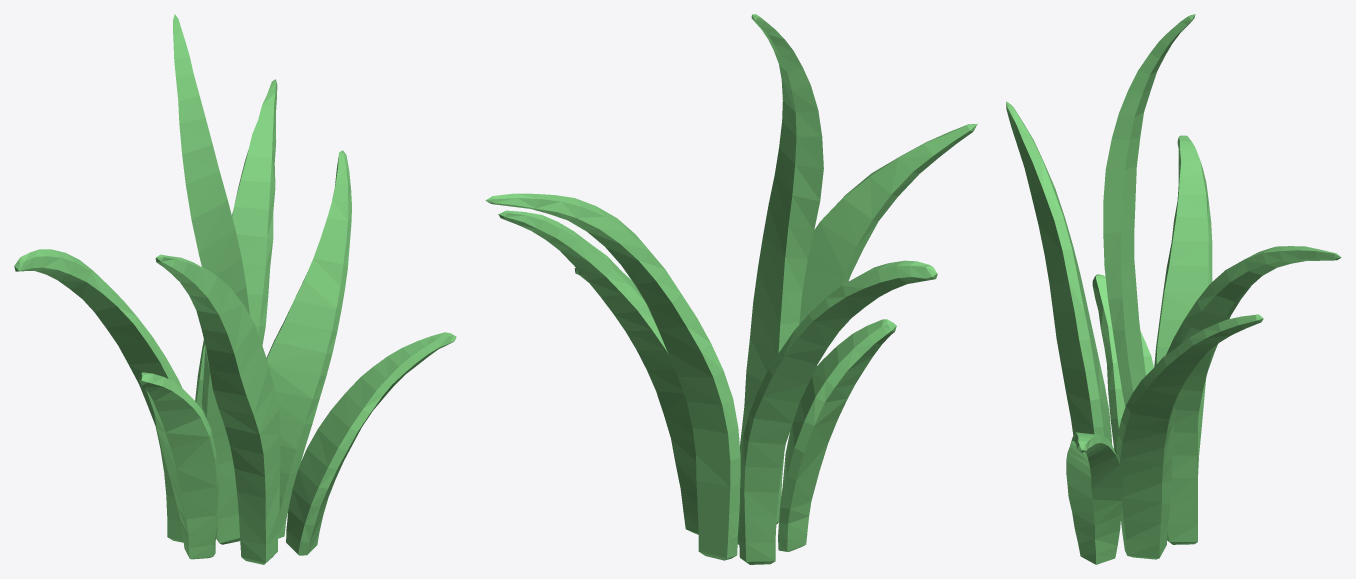
The model's file is crop_mugi1.glb.
The picture shows the model from 3 angles, left to right: view 1: azimuth 30°, elevation 25°; view 2: azimuth 150°, elevation 25°; view 3: azimuth 270°, elevation 25°; orthographic projection. The views are drawn at different scales.
Parts seen in each view (by area): view 1: leaf; view 2: leaf; view 3: leaf.
Boxes of the visible parts, x1,y1,x2,y2 form: leaf: [14, 14, 456, 564]; leaf: [485, 14, 977, 564]; leaf: [1006, 14, 1341, 564].
Size of the model in its own units: 0.1807 by 0.229 by 0.1367.
